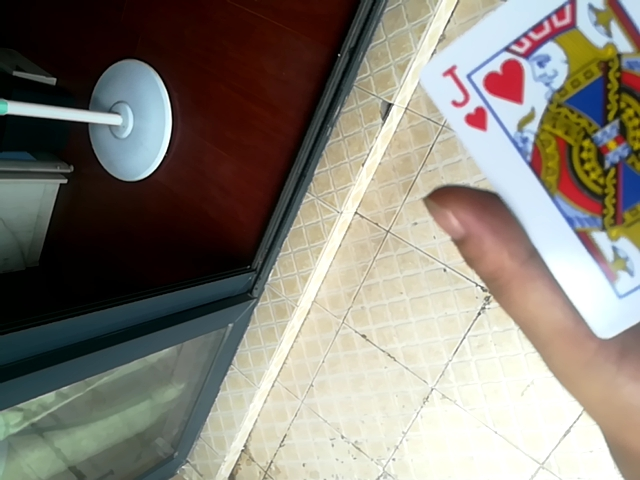hx j: (412, 0, 638, 347)
